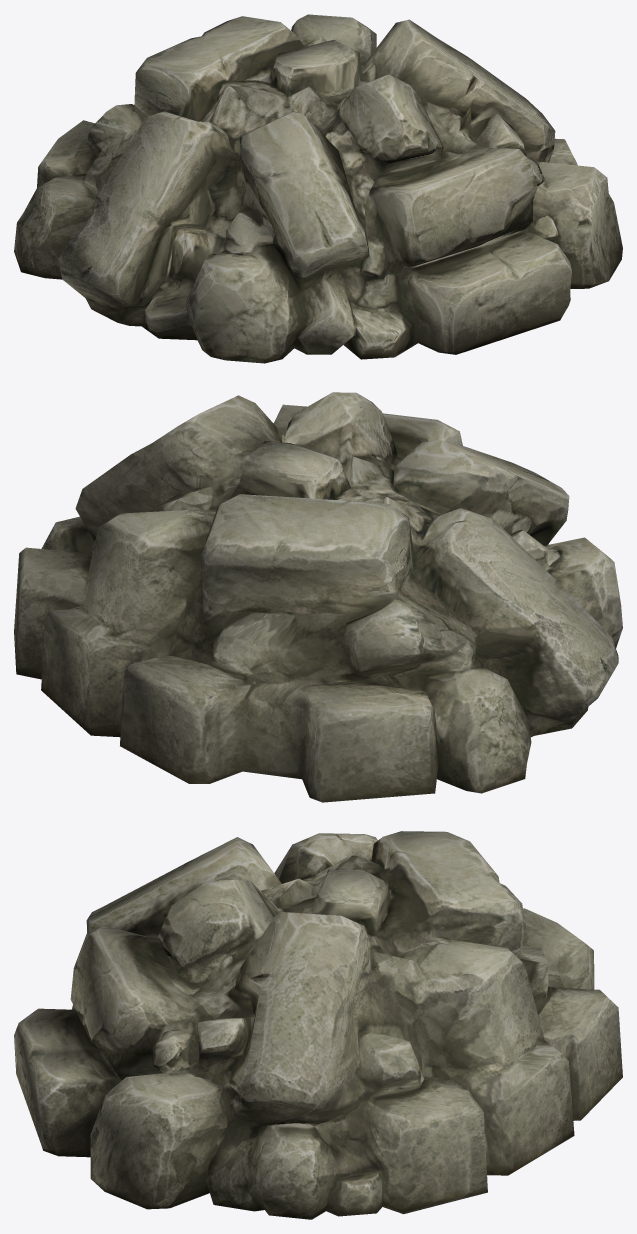
The model's file is rubble.glb.
The picture shows the model from 3 angles, top to bottom: view 1: azimuth 30°, elevation 25°; view 2: azimuth 150°, elevation 25°; view 3: azimuth 270°, elevation 25°; orthographic projection. The views are drawn at different scales.
Visible parts, largest first — view 1: rubble; view 2: rubble; view 3: rubble.
Part boxes in pixels (bbox=[...]): rubble: bbox=[14, 14, 622, 363]; rubble: bbox=[14, 392, 622, 802]; rubble: bbox=[14, 831, 622, 1219].
Size of the model in its own units: 0.9995 by 0.3862 by 0.9448.
Materials: 1 (1 with a texture image).
